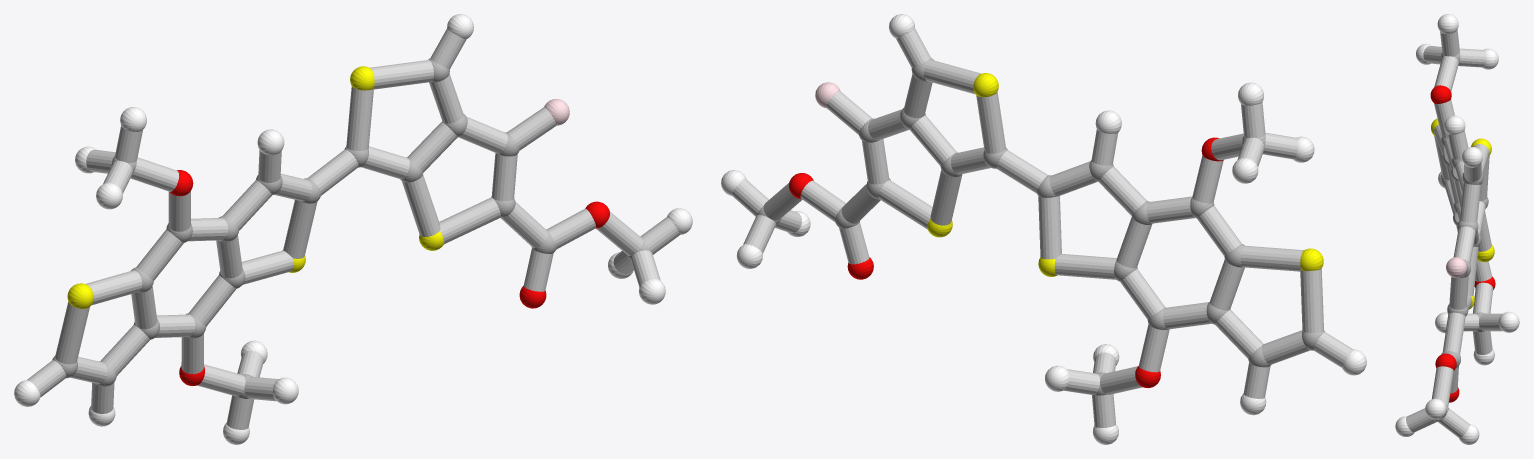
Rendered from Dimethoxy_Benzodithiophene_Phi_10_Theta_340_Methylcarbonyl_3_Fluoro_Thienothiophene.glb.
3 views of the same model, side by side, from view 1: azimuth 30°, elevation 25°; view 2: azimuth 150°, elevation 25°; view 3: azimuth 270°, elevation 25° (orthographic). The views are drawn at different scales.
Visible parts, largest first — view 1: grp15205, grp8689, grp1, grp7241, grp13395; view 2: grp15205, grp8689, grp1, grp7241, grp13395; view 3: grp15205, grp8689, grp1, grp13395, grp7241, grp14843.
Boxes of the visible parts, box(x1,y1,x2,y2) form: grp15205: box(27, 28, 680, 429); grp8689: box(14, 14, 692, 444); grp1: box(52, 58, 650, 398); grp7241: box(67, 66, 444, 308); grp13395: box(170, 170, 609, 385); grp15205: box(732, 28, 1352, 427); grp8689: box(721, 14, 1366, 444); grp1: box(757, 58, 1324, 395); grp7241: box(927, 73, 1323, 276); grp13395: box(789, 137, 1223, 388); grp15205: box(1406, 30, 1502, 437); grp8689: box(1395, 14, 1519, 444); grp1: box(1433, 51, 1488, 421); grp13395: box(1430, 85, 1495, 402); grp7241: box(1431, 118, 1494, 309); grp14843: box(1446, 257, 1467, 277).
Size of the model in its own units: 17.13 by 9.4 by 3.51.
